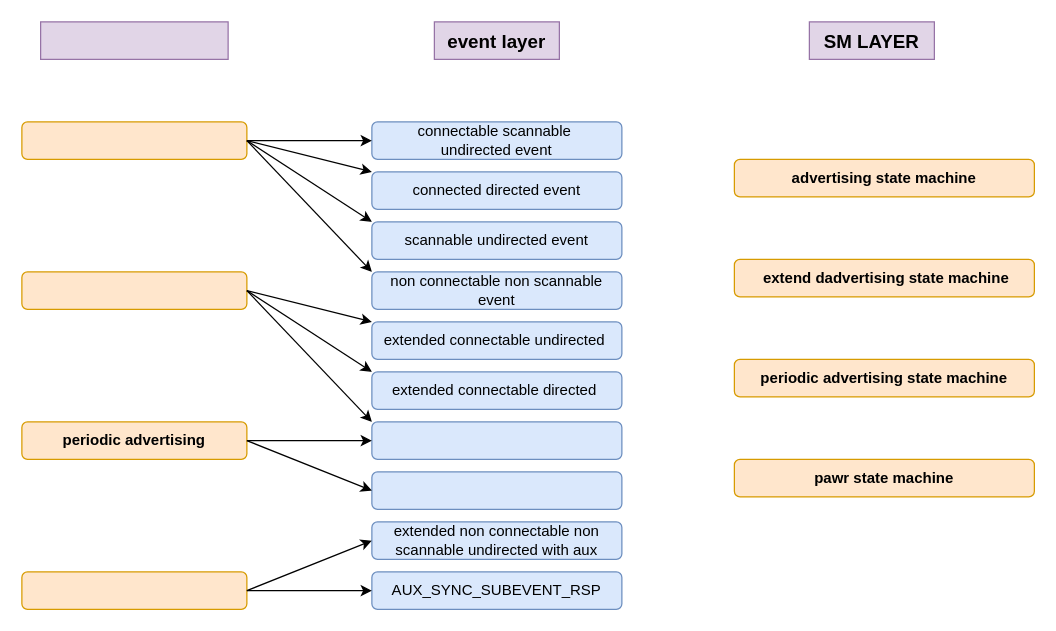
This 1056x631 diagram has some shape labels left out. Here are the shapes that lost their labels. From the top down, the centre of each, then its label:
At pixel 133 40: "EVENT CATEGORY".
At pixel 134 140: "advertising".
At pixel 134 290: "extended advertising".
At pixel 496 440: "extended scannable undirected".
At pixel 496 490: "extended scannable directed".
At pixel 134 590: "periodic advertising with rsp".
